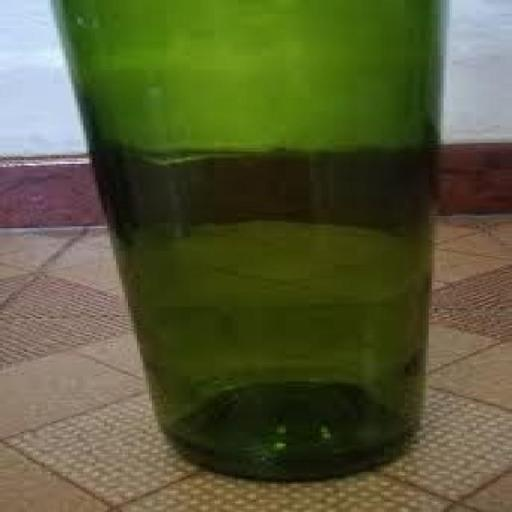glass: (37, 0, 481, 486)
